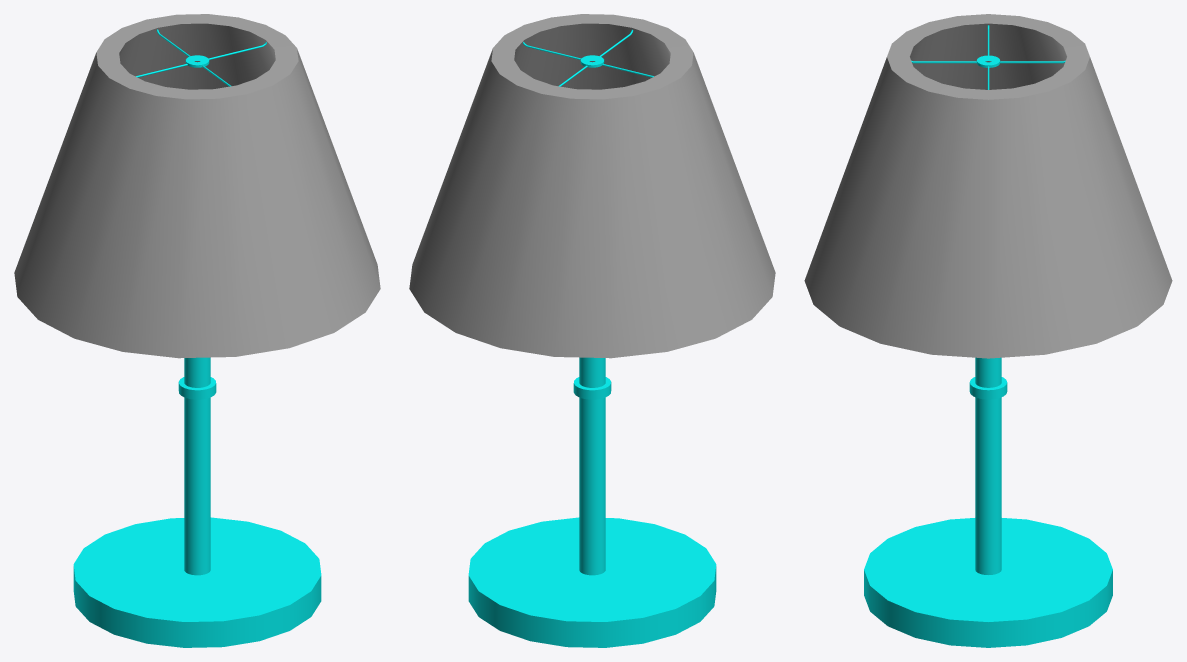
Rendered from motellamp.fbx.
3 renders of one model, left to right at view 1: azimuth 30°, elevation 25°; view 2: azimuth 150°, elevation 25°; view 3: azimuth 270°, elevation 25°, orthographic.
Visible parts, largest first — view 1: pCylinder10; view 2: pCylinder10; view 3: pCylinder10.
Boxes of the visible parts, bbox=[...] form: pCylinder10: bbox=[14, 14, 380, 647]; pCylinder10: bbox=[409, 14, 775, 647]; pCylinder10: bbox=[804, 14, 1172, 647].
Bounding box in the file's own units: 3.42 × 5.53 × 3.42.
